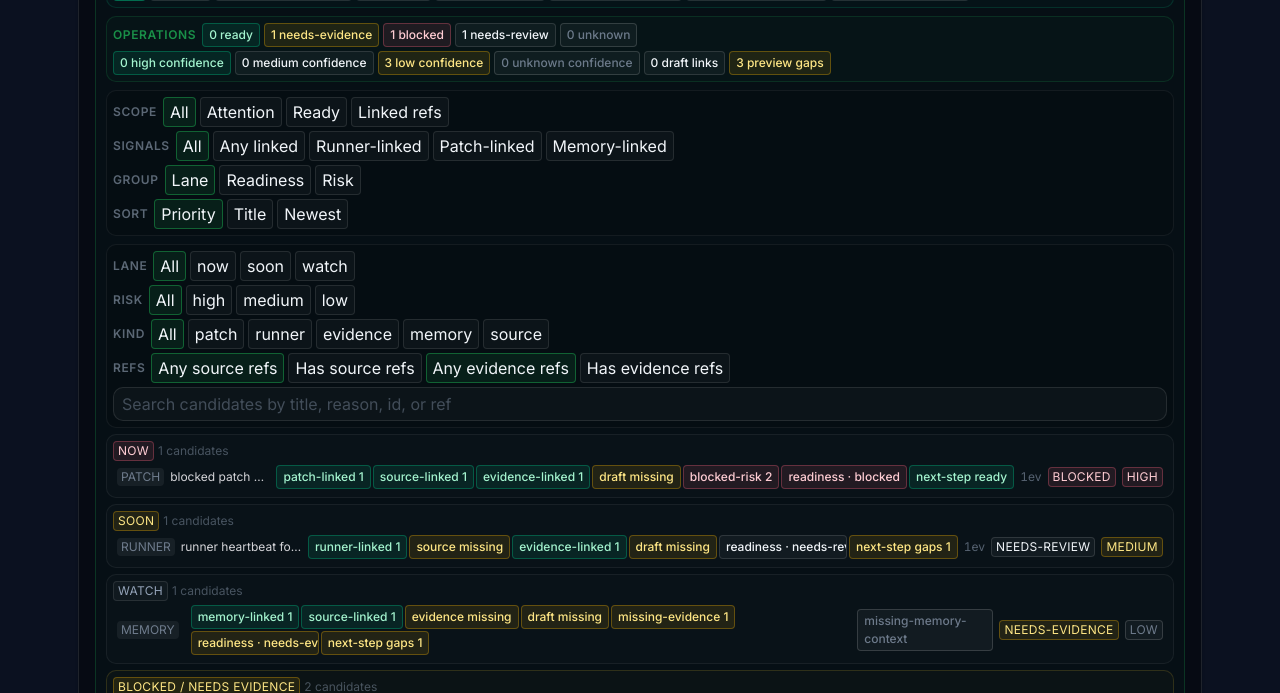
it: E7 — WorkItem Candidate Board / Triage View › keeps E6 detail drawer working from filtered rows
(page scrolled)
Click the button with test id "wic-filter-kind-runner" at (280, 334), box [248,318,312,348]
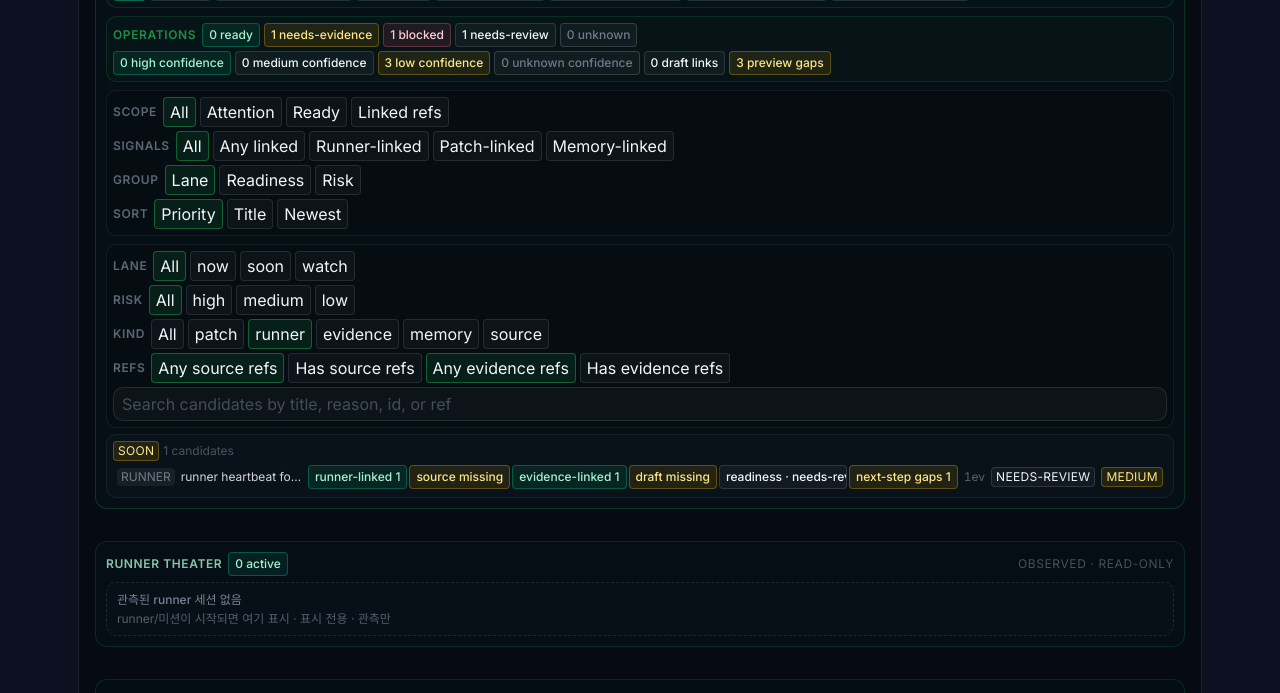
Click the button with test id "wic-row-wic-soon-runner" at (640, 476), box [113,462,1167,490]
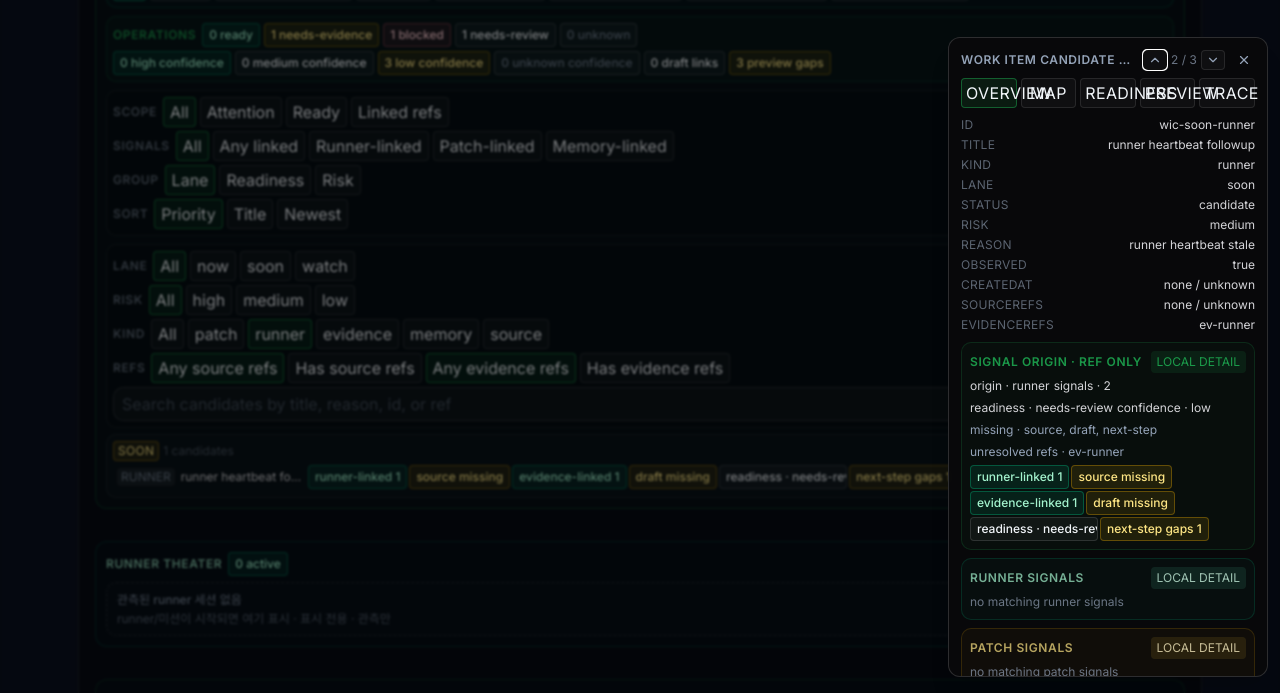
Result: the dialog with test id "work-item-candidate-detail-drawer" is shown at [948,37,1268,677]
Result: the element with test id "wic-detail-field-id" shows "wic-soon-runner" at [1159,117,1255,132]
